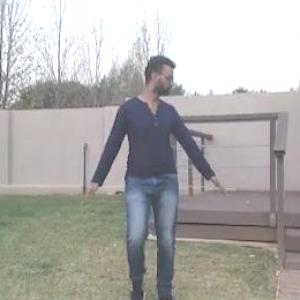land: (88, 53, 224, 299)
